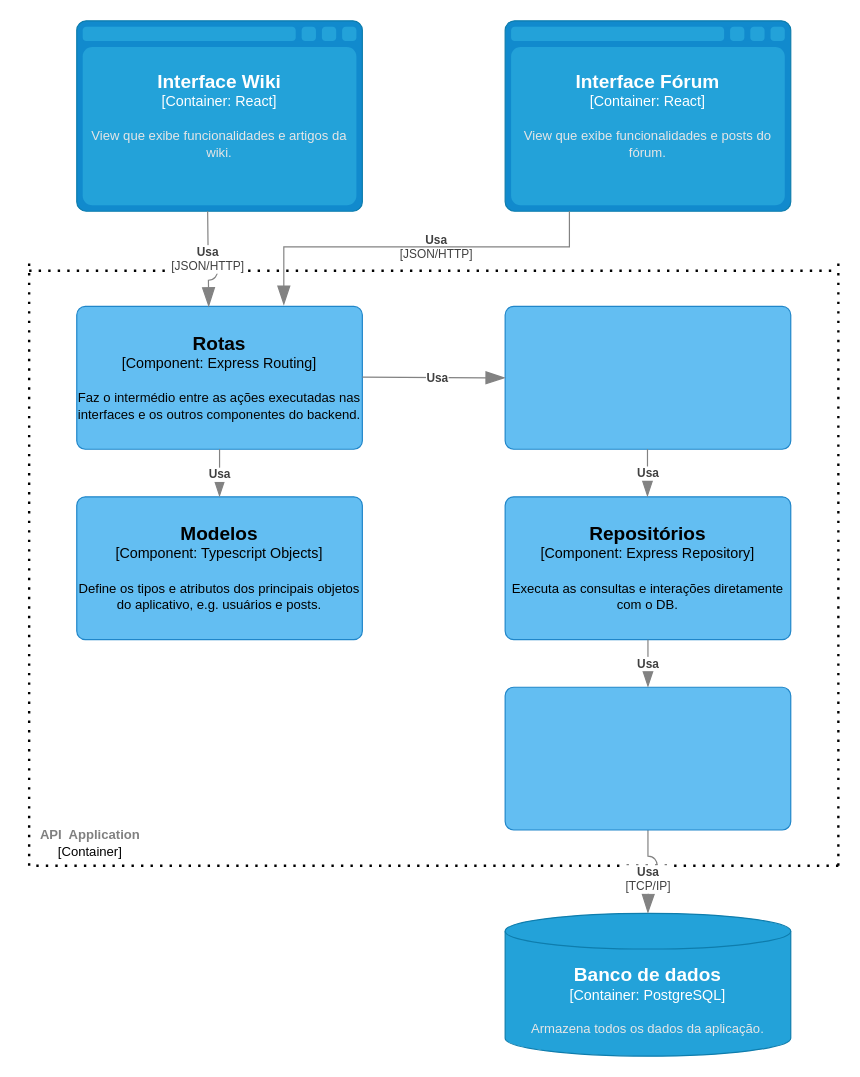
Image size: 860x1077. Some labels were removed from this diagram. The box of each missing label's shape, as (x1, y1, x2, y2) in pixels:
Pool de Conexões [Component: Typescript Object] Gerencia conexões com o banco.: (504, 686, 791, 830)
Serviços [Component: Express Service] Executa as ações que chegam das rotas.: (504, 305, 791, 449)
